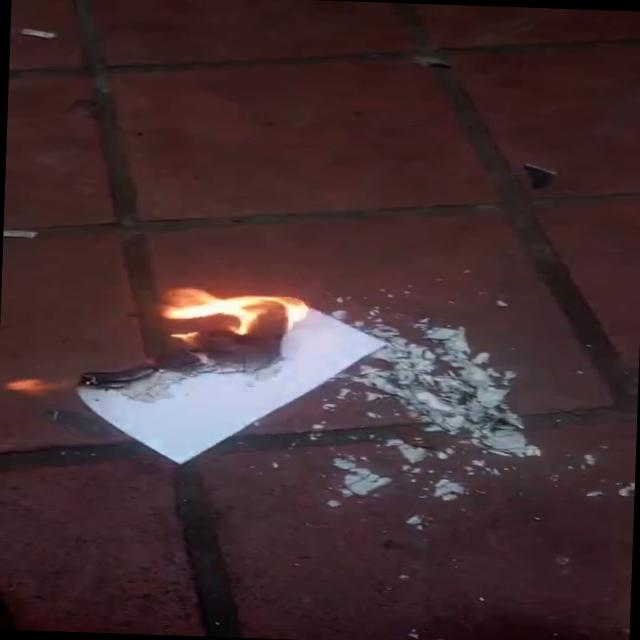Fire_Dangerous: (163, 281, 305, 364), (10, 366, 87, 406)
